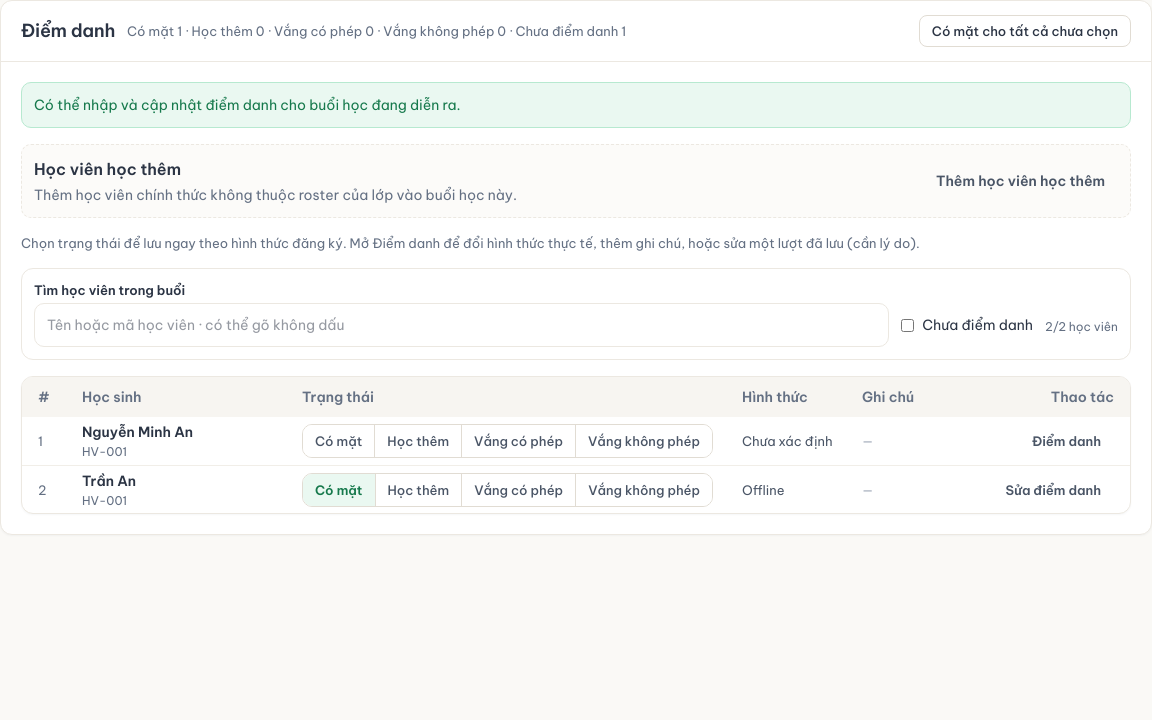
Test: Attendance status group and bulk marking (design 04) › saves a non-present status in one tap and sends marked rows to the editor instead of overwriting
Click the button with aria-label "Ghi Vắng có phép cho học viên" at (519, 441), box x1=462 y1=425 x2=576 y2=457
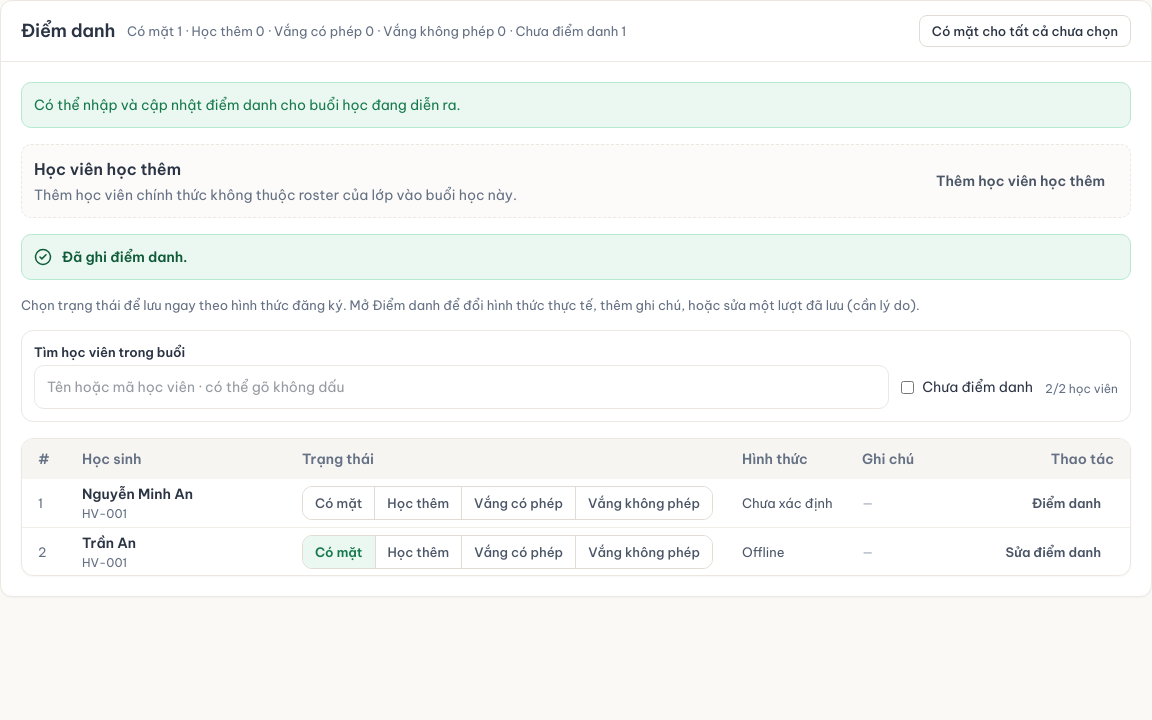
Click the button with aria-label "Đổi sang Vắng không phép cho học viên" at (644, 552), box x1=576 y1=536 x2=712 y2=568
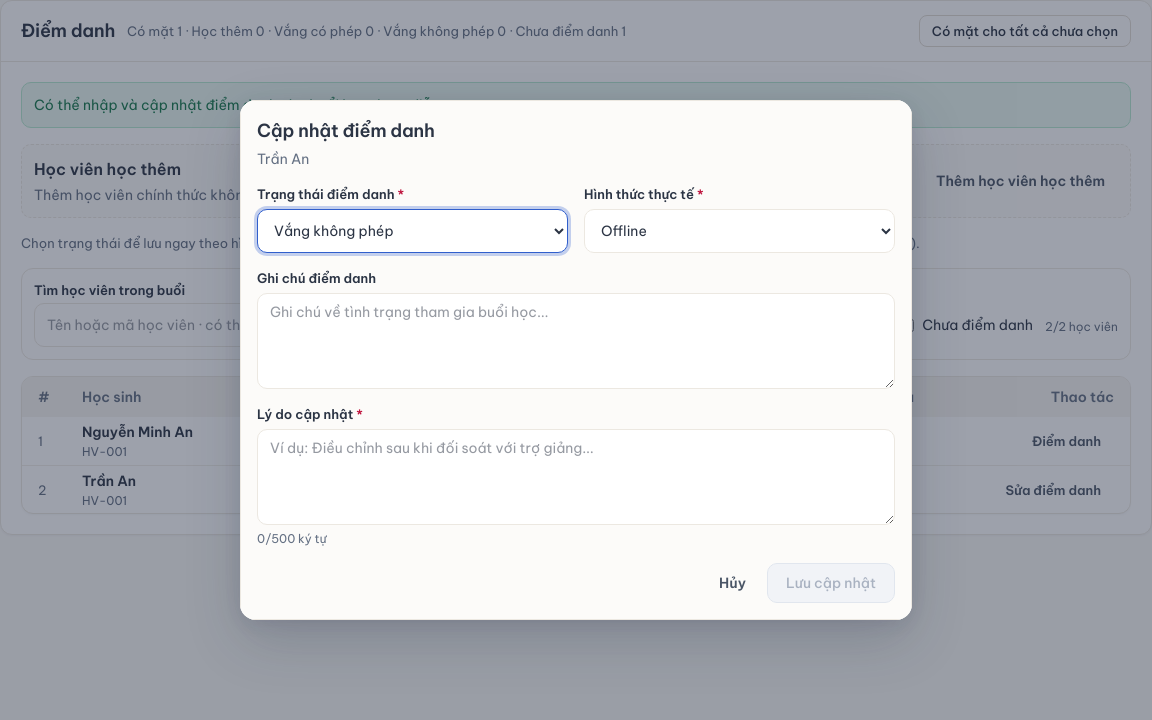
Expected: the heading "Cập nhật điểm danh" is shown, x1=257 y1=119 x2=435 y2=142
Expected: the text box labelled "Lý do cập nhật *" is shown, x1=257 y1=429 x2=895 y2=525
